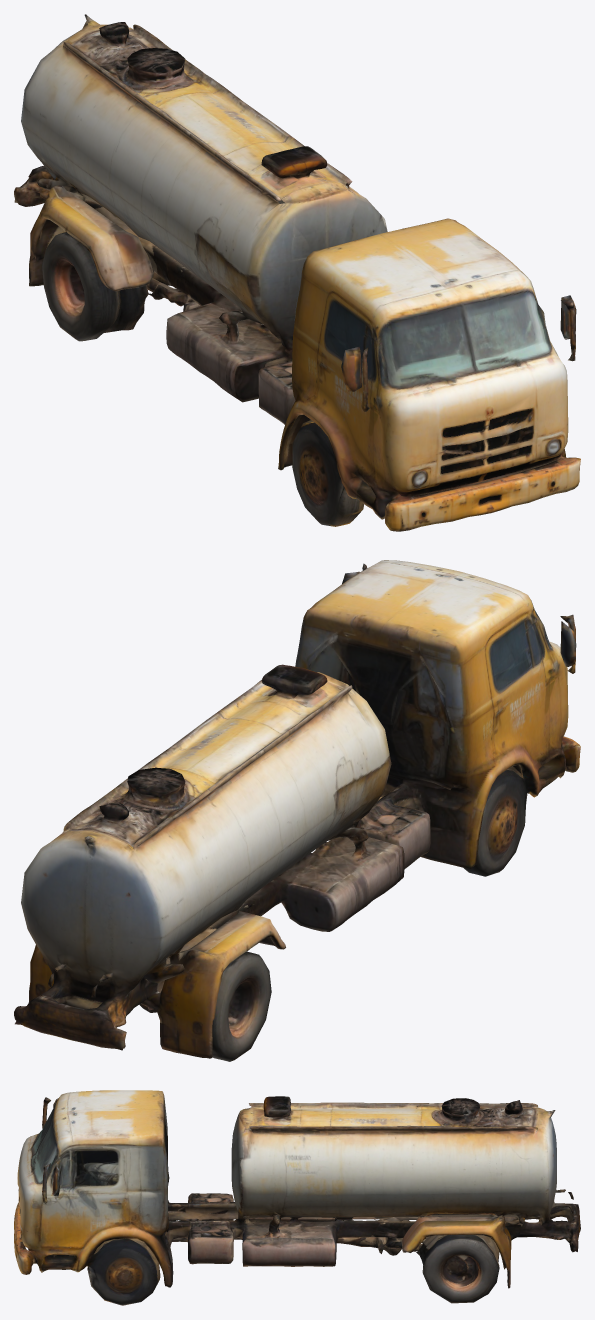
Rendered from old_beat_up_airport_f_0328180534_texture.glb.
The picture shows the model from 3 angles, top to bottom: view 1: azimuth 30°, elevation 25°; view 2: azimuth 150°, elevation 25°; view 3: azimuth 270°, elevation 25°; orthographic projection. The views are drawn at different scales.
Size of the model in its own units: 0.6342 by 0.6795 by 1.99.
Materials: 1 (1 with a texture image).
